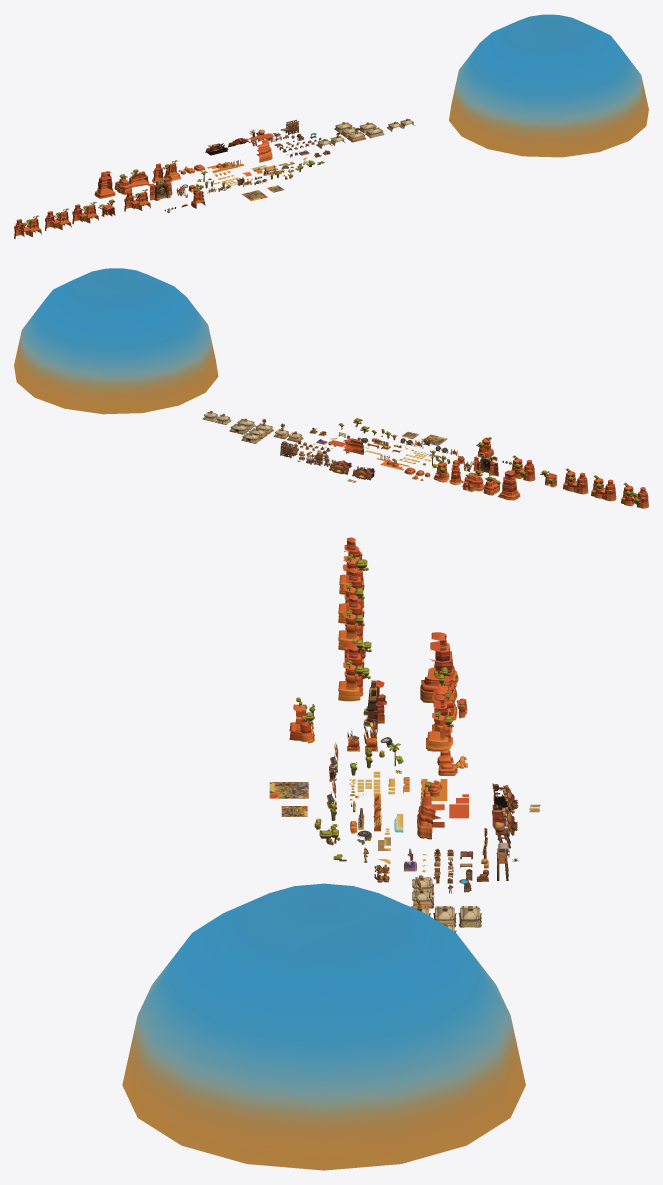
File: desert.fbx
The picture shows the model from 3 angles, top to bottom: view 1: azimuth 30°, elevation 25°; view 2: azimuth 150°, elevation 25°; view 3: azimuth 270°, elevation 25°; orthographic projection. The views are drawn at different scales.
Visible parts, largest first — view 1: obj_skybox_desert, obj_rock_cave5, [gimmick]cactus_cliff, obj_rock_cave4, obj_rock_cave3, obj_rock_cave; view 2: obj_skybox_desert, obj_rock_cave5, obj_rock_cave4, obj_rock_cave3, [gimmick]cactus_cliff, obj_rock_cave; view 3: obj_skybox_desert, obj_rock_cave, obj_rock_cave3.
Boxes of the visible parts, x1,y1,x2,y2 form: obj_skybox_desert: [449, 14, 648, 157]; obj_rock_cave5: [14, 215, 41, 238]; [gimmick]cactus_cliff: [94, 171, 115, 198]; obj_rock_cave4: [45, 208, 71, 230]; obj_rock_cave3: [72, 201, 98, 224]; obj_rock_cave: [124, 189, 150, 211]; obj_skybox_desert: [14, 268, 218, 414]; obj_rock_cave5: [621, 482, 648, 508]; obj_rock_cave4: [591, 475, 616, 501]; obj_rock_cave3: [563, 468, 588, 494]; [gimmick]cactus_cliff: [498, 470, 520, 500]; obj_rock_cave: [511, 455, 535, 481]; obj_skybox_desert: [122, 883, 525, 1170]; obj_rock_cave: [338, 645, 370, 701]; obj_rock_cave3: [338, 595, 364, 650].
Size of the model in its own units: 219 by 32 by 64.58.
2 materials, 2 textured.
